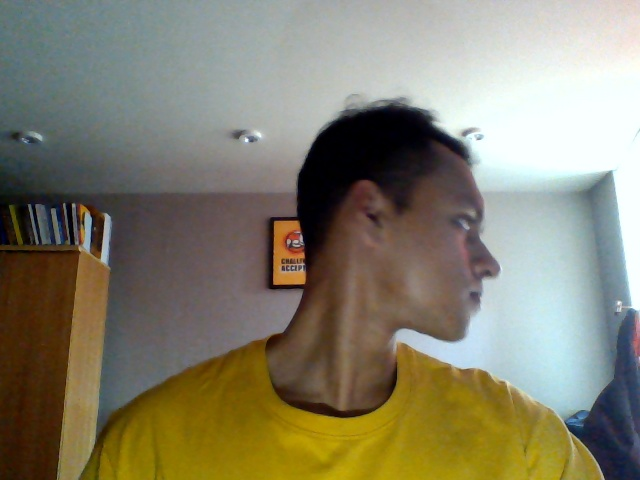no_mask: (361, 240, 504, 350)
